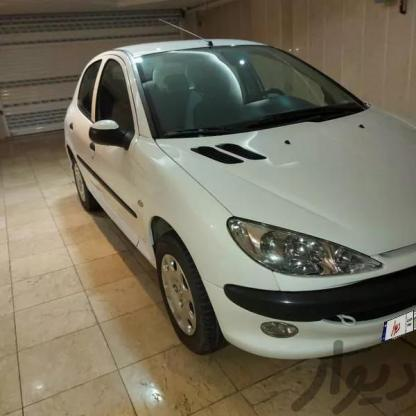Car: (54, 39, 416, 376)
